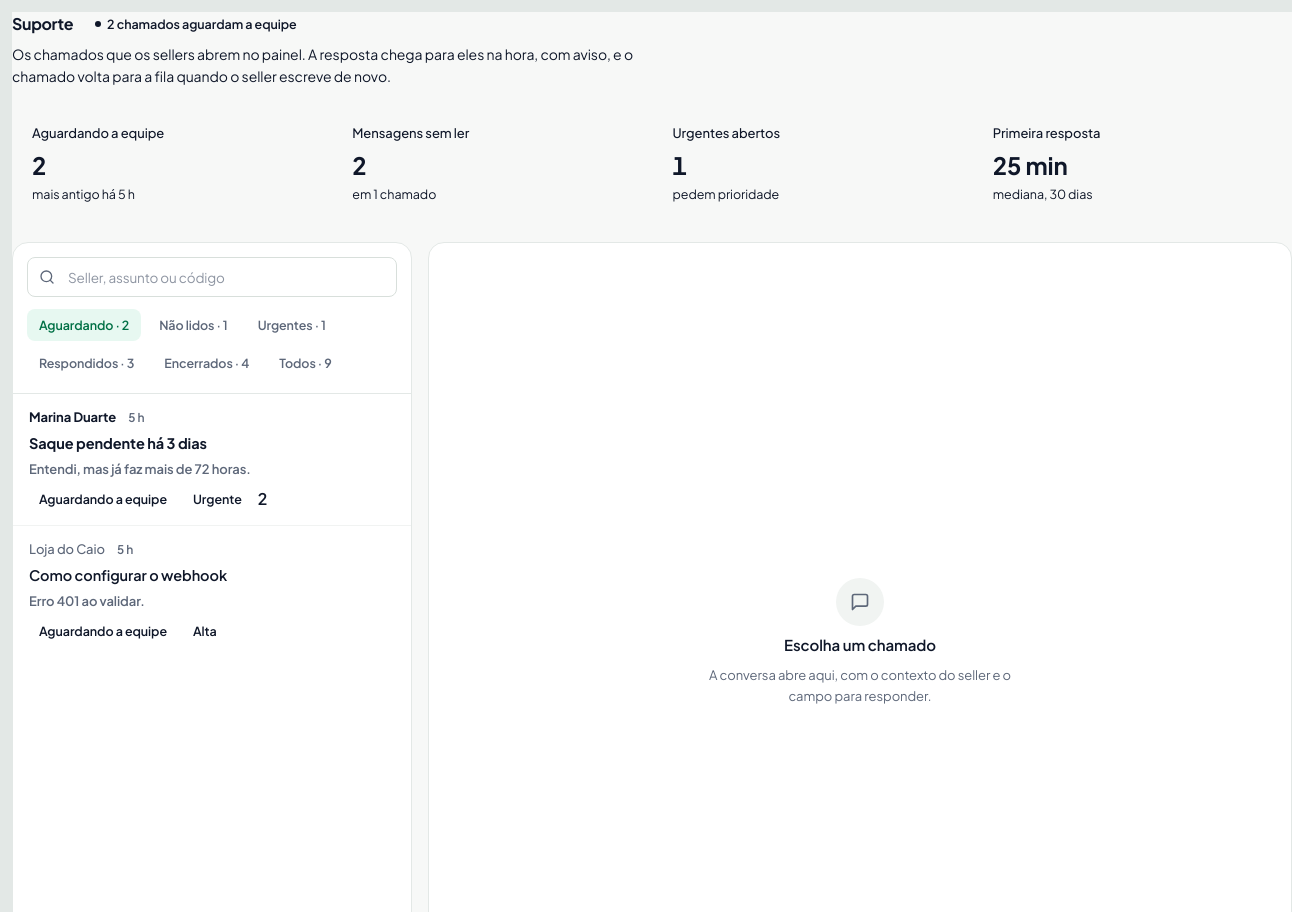
it: Suporte do admin › troca o filtro e pede a lista certa ao servidor; limpar volta ao começo
Expected: the button "Saque pendente" is shown, [13,394,411,525]
Click the button "Urgentes · 1".
click(292, 325)  # box [246,309,338,341]
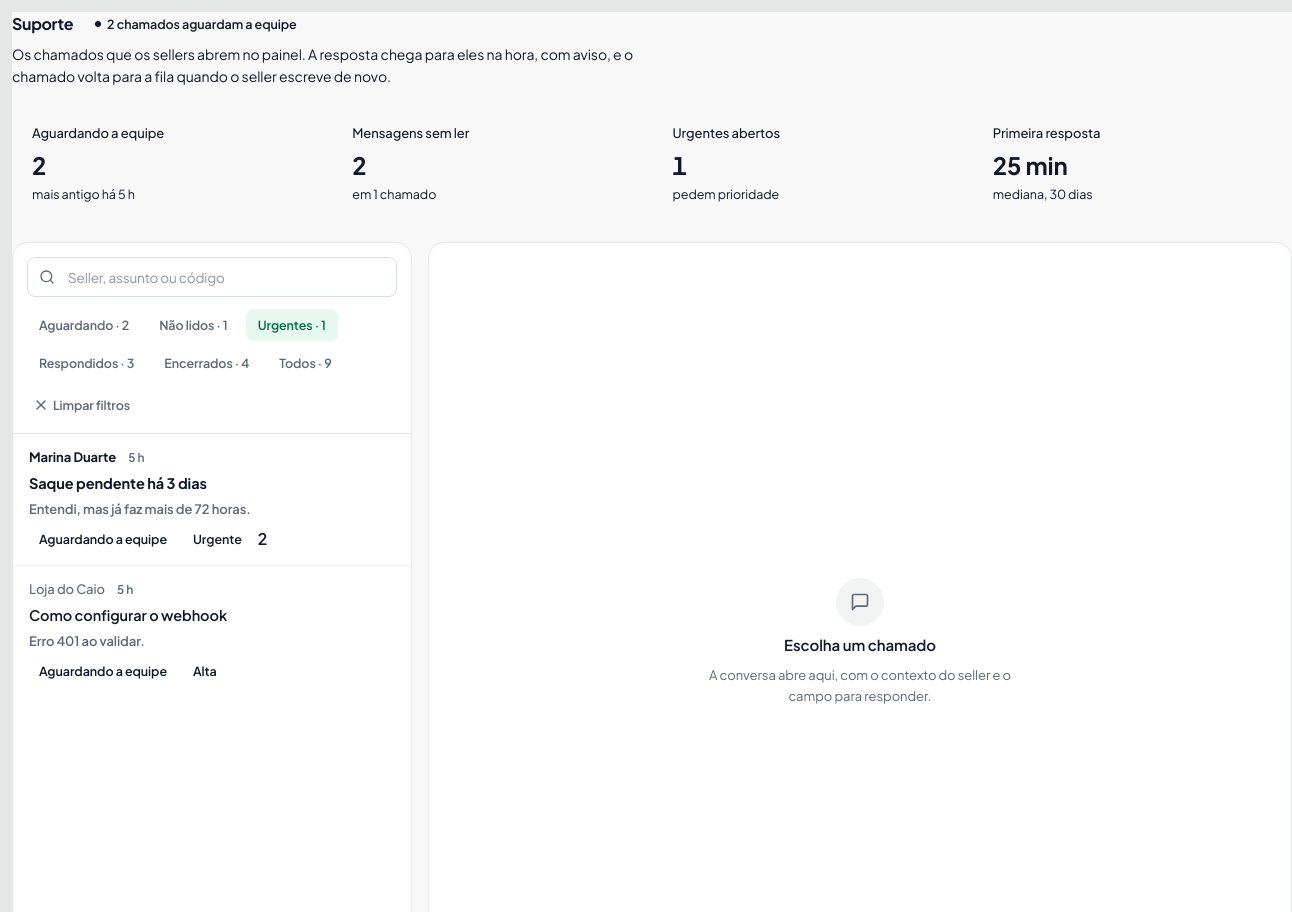
Click the button "Limpar filtros".
click(82, 405)  # box [19,391,144,419]
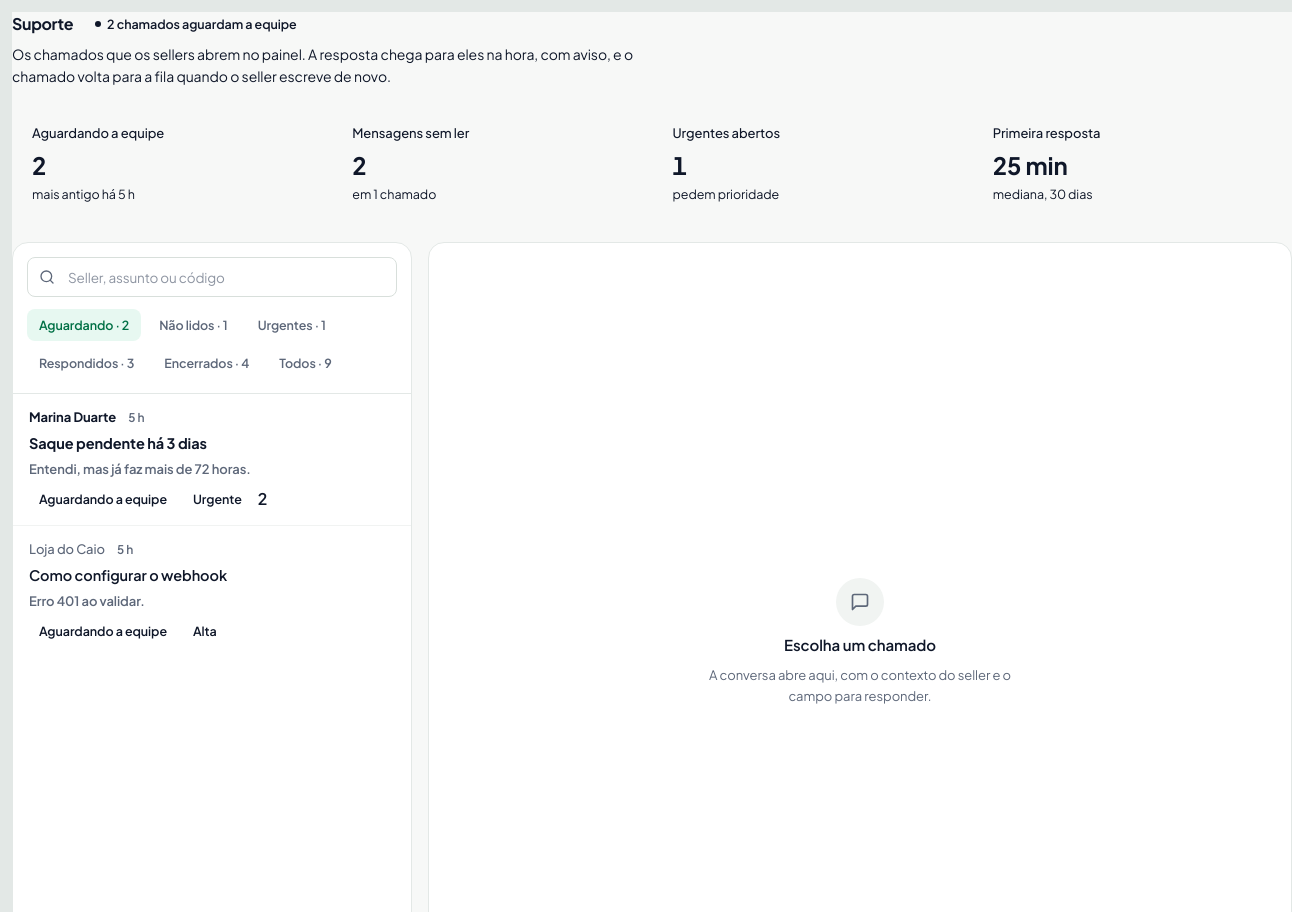
Now the button "Aguardando · 2" is pressed, box [27,309,141,341]
